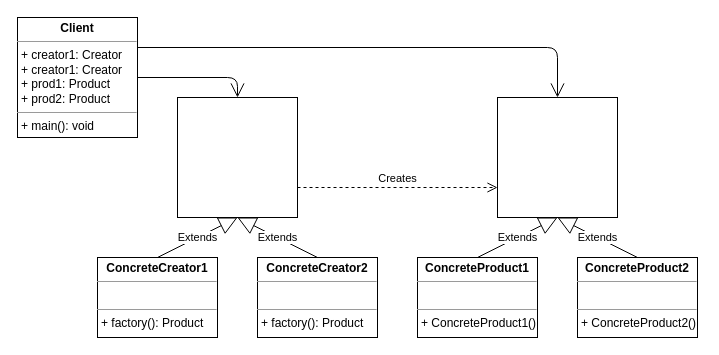
Image size: 719x355. Some labels were removed from this diagram. The centre of each missing label's shape, as x and y in pixels:
<<Interface>> Creator + factory(): Product: the point at 237,157
<<Interface>> Product: the point at 557,157
